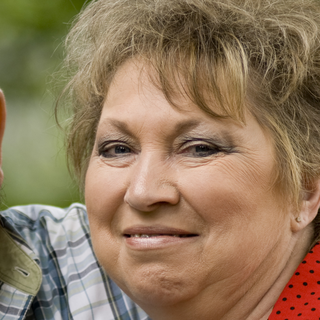eye: (172, 135, 227, 165), (93, 136, 140, 164)
